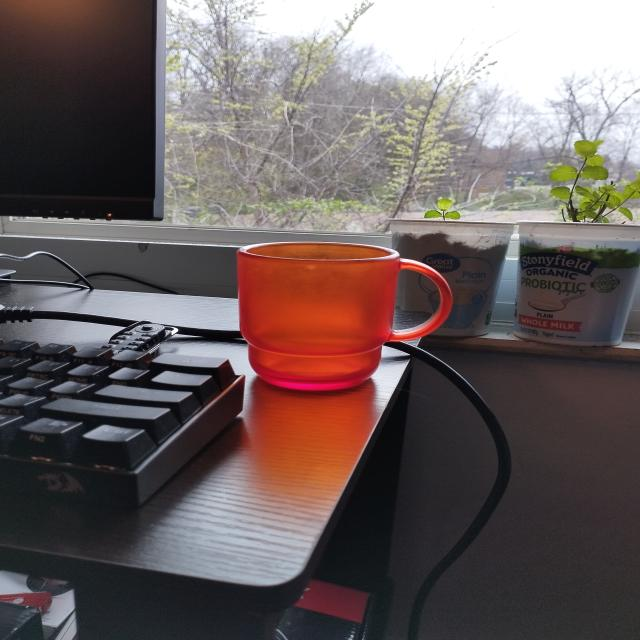Cup: (230, 218, 471, 406)
